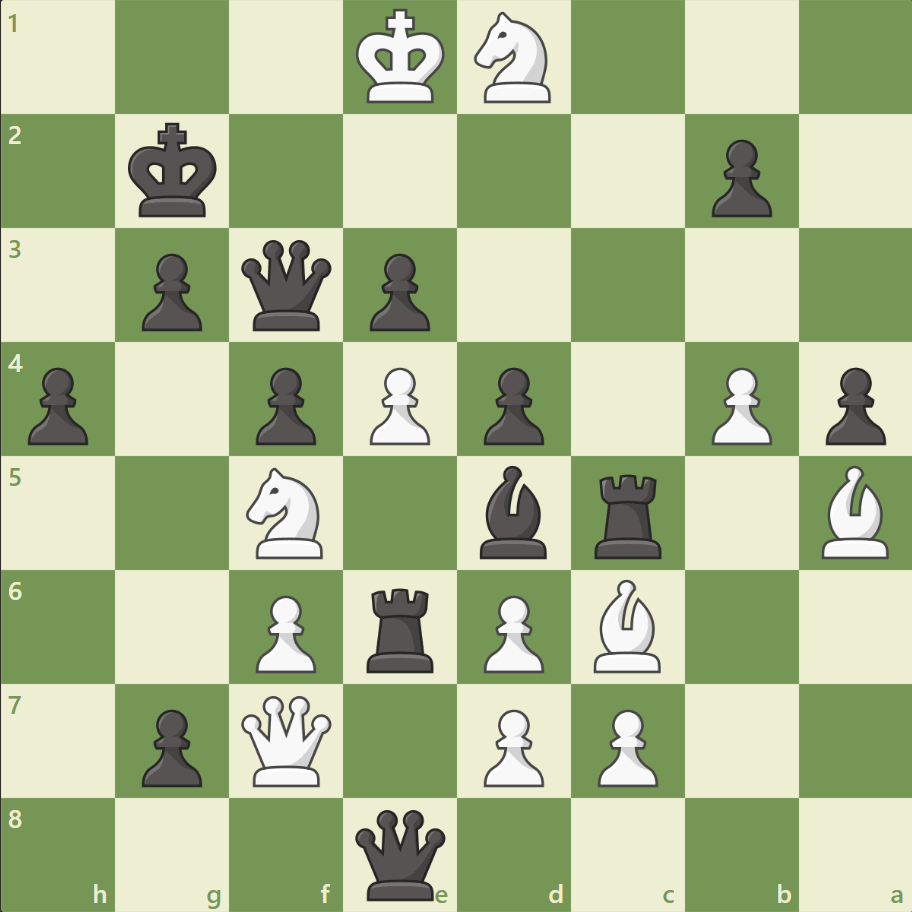B: (812, 460, 896, 563), (585, 574, 669, 676)
K: (351, 4, 451, 112)
N: (238, 461, 335, 564), (465, 7, 562, 110)
P: (474, 700, 549, 791), (474, 586, 549, 677), (247, 586, 322, 677), (701, 359, 776, 450), (588, 700, 662, 791), (361, 359, 435, 450)
Q: (237, 690, 336, 789)
b: (471, 460, 555, 563)
k: (124, 117, 224, 225)
p: (133, 700, 208, 791), (474, 359, 549, 450), (247, 359, 322, 450), (20, 359, 95, 450), (133, 246, 208, 337), (701, 132, 776, 223), (815, 359, 889, 450), (361, 246, 435, 337)
q: (351, 804, 450, 903), (237, 236, 336, 335)
r: (587, 466, 670, 563), (360, 579, 442, 676)
